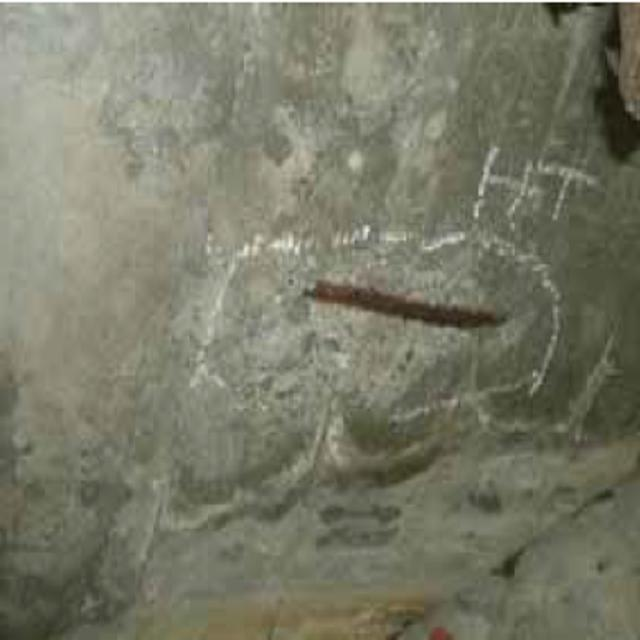spalling: (203, 217, 526, 410)
